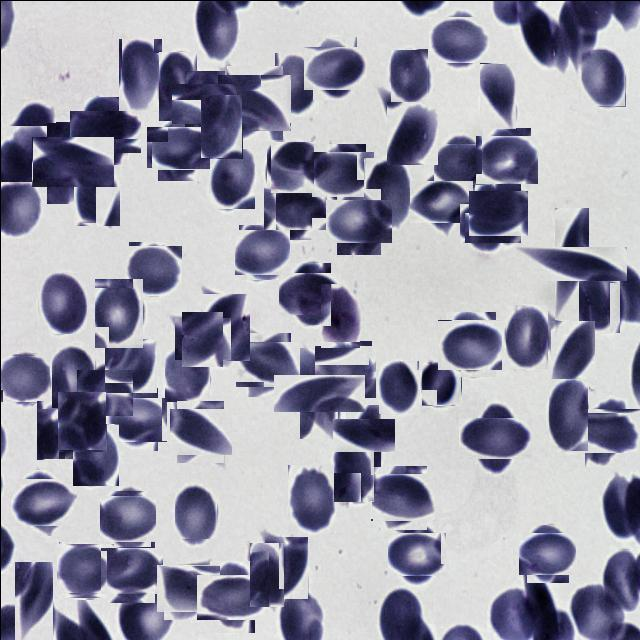red blood cell: (534, 227, 608, 300), (39, 128, 104, 195), (222, 69, 286, 134), (286, 360, 350, 424), (202, 566, 261, 626), (94, 278, 143, 348), (363, 157, 411, 228), (287, 464, 336, 533), (465, 408, 523, 466), (577, 401, 635, 459), (198, 293, 248, 360), (441, 314, 498, 372), (316, 342, 373, 399), (76, 103, 133, 160), (14, 474, 72, 530), (386, 101, 437, 164), (118, 38, 162, 111), (57, 542, 113, 598), (374, 468, 430, 524), (159, 560, 215, 616), (478, 130, 534, 186), (240, 336, 294, 392), (330, 194, 386, 248), (14, 561, 52, 640), (550, 320, 594, 388), (172, 404, 227, 458), (38, 272, 86, 333), (548, 378, 588, 451), (126, 243, 180, 297), (432, 12, 486, 66), (267, 180, 321, 234), (152, 120, 206, 174), (315, 147, 369, 201), (104, 544, 158, 598), (73, 164, 120, 226), (57, 391, 106, 450), (108, 392, 162, 445), (9, 96, 55, 158), (72, 422, 118, 484), (308, 40, 360, 94), (104, 338, 156, 392), (178, 76, 230, 130), (51, 342, 94, 407), (415, 174, 467, 227), (471, 186, 524, 238), (274, 52, 318, 114), (100, 492, 152, 544), (78, 366, 130, 418), (283, 267, 335, 319), (209, 148, 254, 208), (578, 269, 620, 333), (505, 304, 547, 368), (200, 94, 242, 158), (0, 125, 48, 181), (264, 536, 307, 598), (333, 437, 374, 502), (158, 51, 196, 120), (391, 528, 442, 579), (36, 400, 80, 459), (236, 226, 286, 277), (581, 49, 625, 106), (522, 528, 572, 578), (436, 139, 486, 189), (479, 62, 516, 129), (174, 481, 216, 538), (177, 314, 226, 362), (164, 349, 209, 401), (603, 470, 638, 536), (1, 354, 49, 402), (268, 142, 316, 190), (338, 411, 386, 459), (602, 548, 639, 610), (249, 542, 284, 607), (378, 359, 419, 414), (389, 48, 428, 103), (462, 200, 507, 245), (421, 361, 461, 405)
ring: (320, 282, 359, 346)
